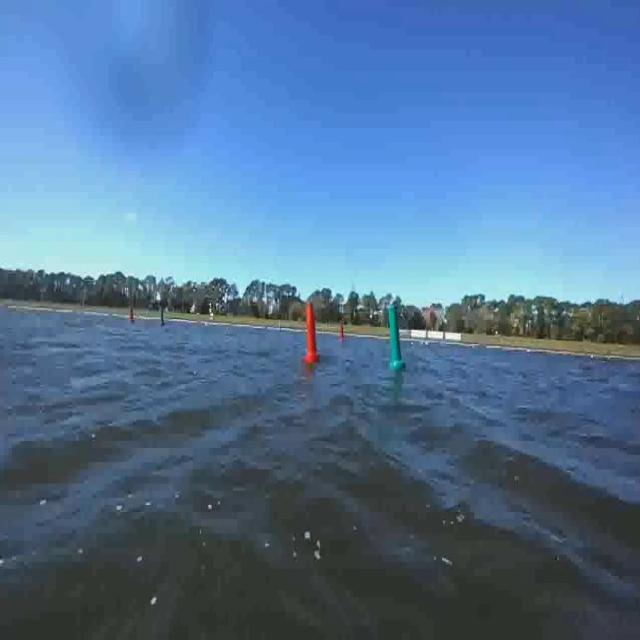green-column-buoy: (386, 305, 405, 371), (160, 306, 168, 327)
red-column-buoy: (304, 303, 320, 362), (130, 306, 137, 324), (341, 326, 346, 344)
